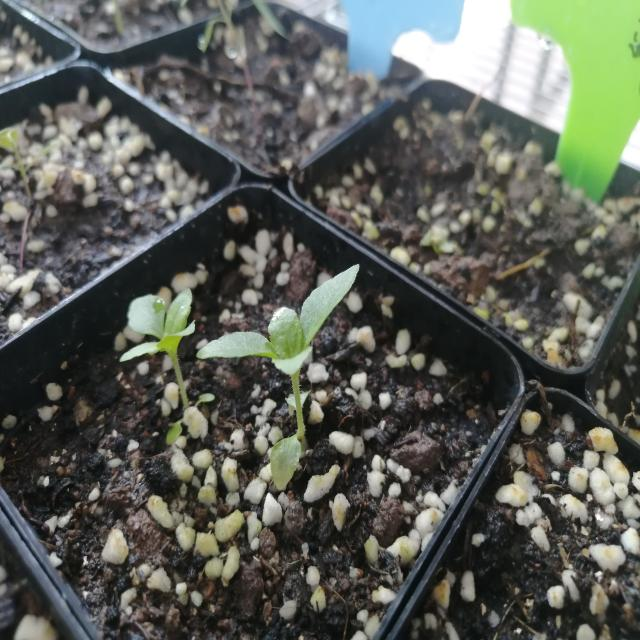billygoat_weed: (202, 268, 380, 452), (118, 277, 213, 386)
